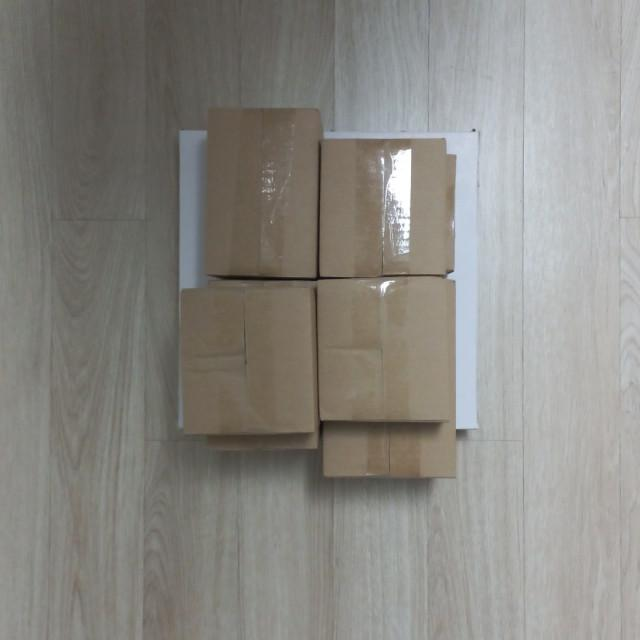box: (175, 282, 318, 438), (199, 104, 321, 282), (315, 275, 453, 427), (317, 134, 451, 278)
